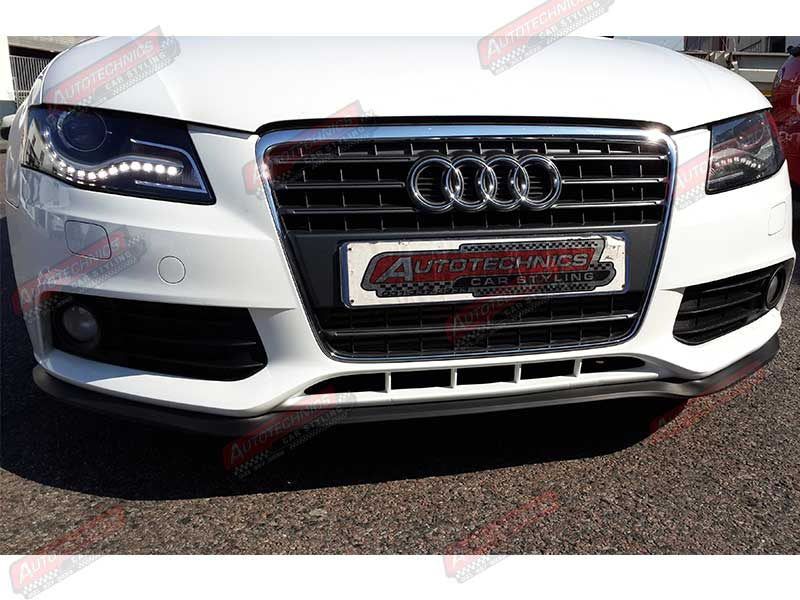audi: (400, 149, 571, 215)
